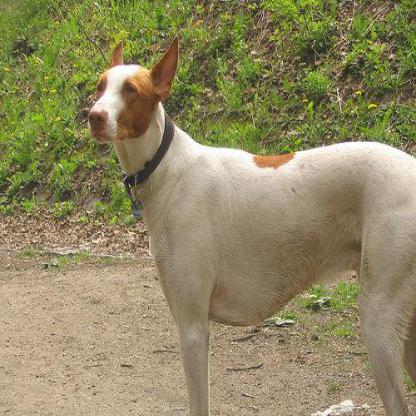dog: (80, 27, 416, 415)
